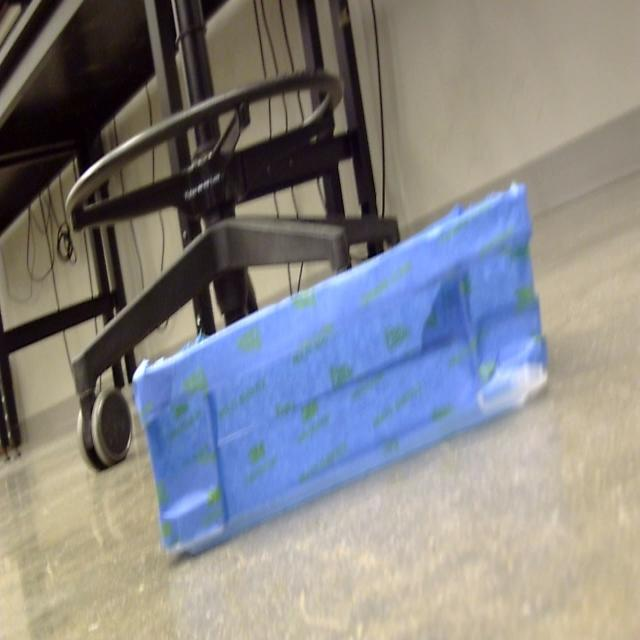bucket: (132, 183, 550, 564)
